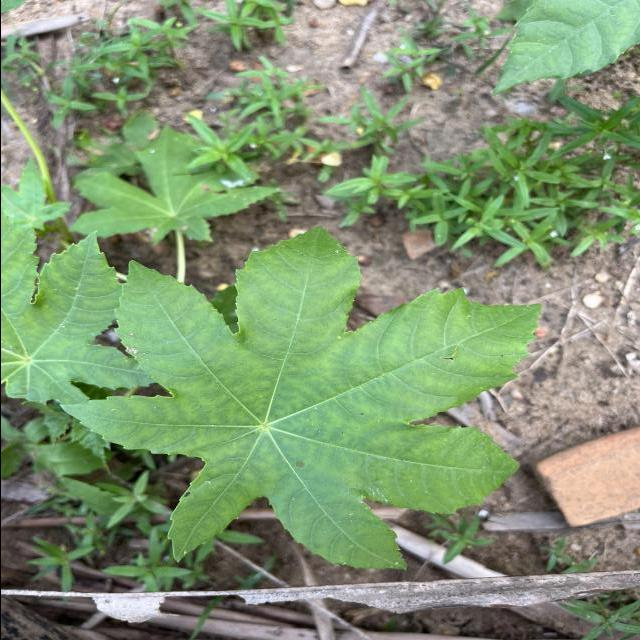Ricinus communis linn: (55, 223, 548, 575)
